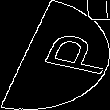P_W: (10, 29, 100, 81)
